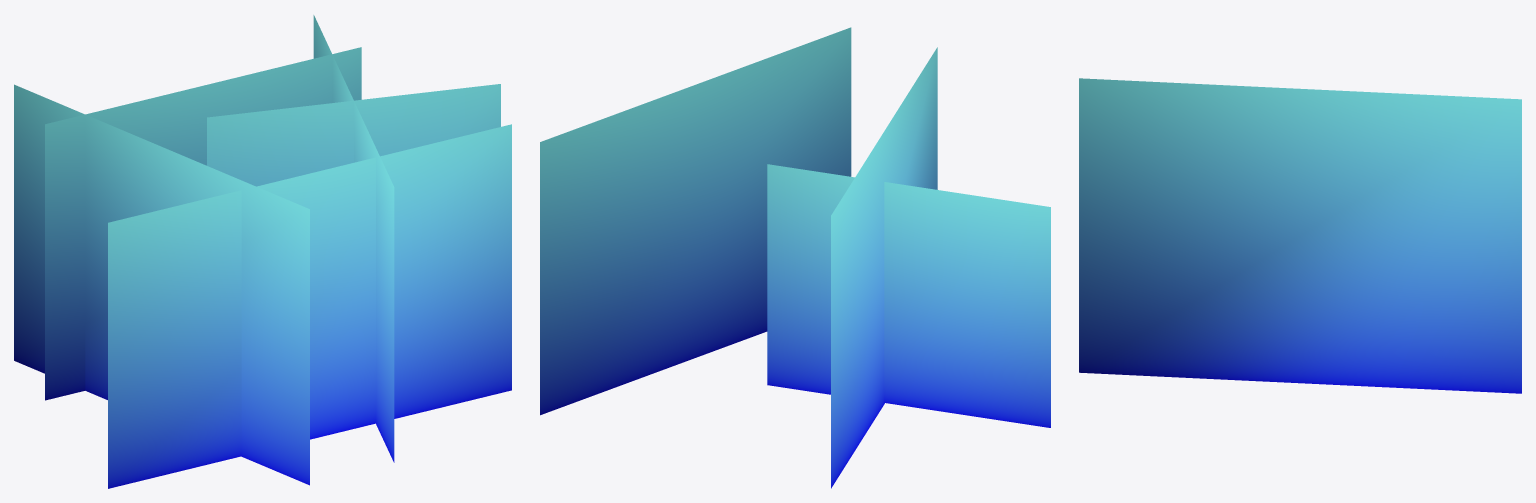
Rendered from SM_Env_Grass_Tall_Clump_02.gltf.
3 views of the same model, side by side, from view 1: azimuth 30°, elevation 25°; view 2: azimuth 150°, elevation 25°; view 3: azimuth 270°, elevation 25° (orthographic).
Parts seen in each view (by area): view 1: SM_Env_Grass_Tall_Clump_02_LOD0; view 2: SM_Env_Grass_Tall_Clump_02_LOD0; view 3: SM_Env_Grass_Tall_Clump_02_LOD0.
Part boxes in pixels (<box>): SM_Env_Grass_Tall_Clump_02_LOD0: <box>14,15,511,488</box>; SM_Env_Grass_Tall_Clump_02_LOD0: <box>540,27,1050,488</box>; SM_Env_Grass_Tall_Clump_02_LOD0: <box>1079,78,1521,393</box>.
Size of the model in its own units: 1.79 by 1.07 by 1.45.
